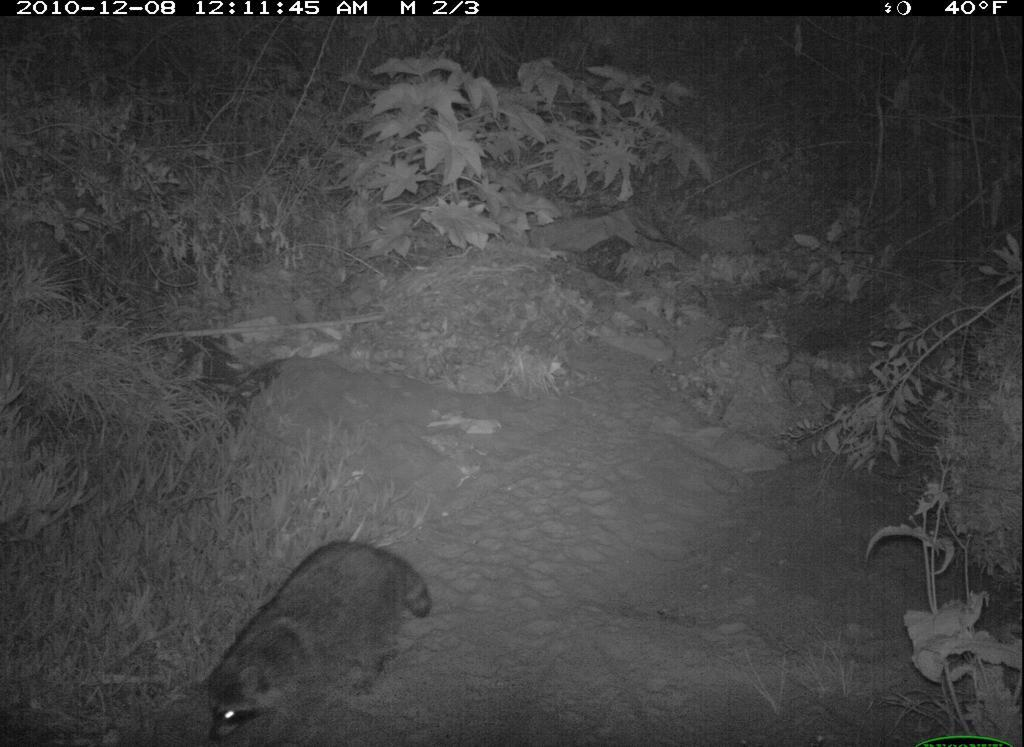raccoon: (199, 527, 436, 747)
